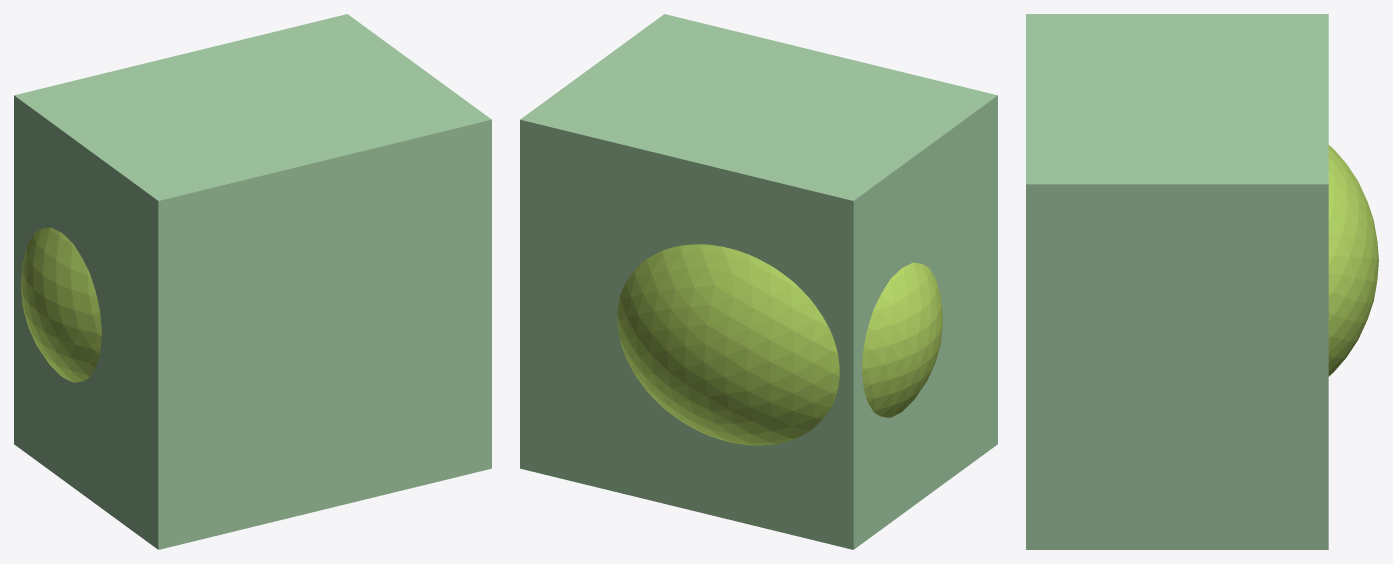
The model's file is plant_cell.glb.
3 renders of one model, left to right at view 1: azimuth 30°, elevation 25°; view 2: azimuth 150°, elevation 25°; view 3: azimuth 270°, elevation 25°, orthographic. The views are drawn at different scales.
Parts seen in each view (by area): view 1: world; view 2: world; view 3: world.
Part boxes in pixels (x1,y1,x2,y2): world: (14, 14, 491, 549); world: (520, 14, 997, 549); world: (1026, 14, 1378, 549).
Size of the model in its own units: 4.3 by 4 by 3.5.
